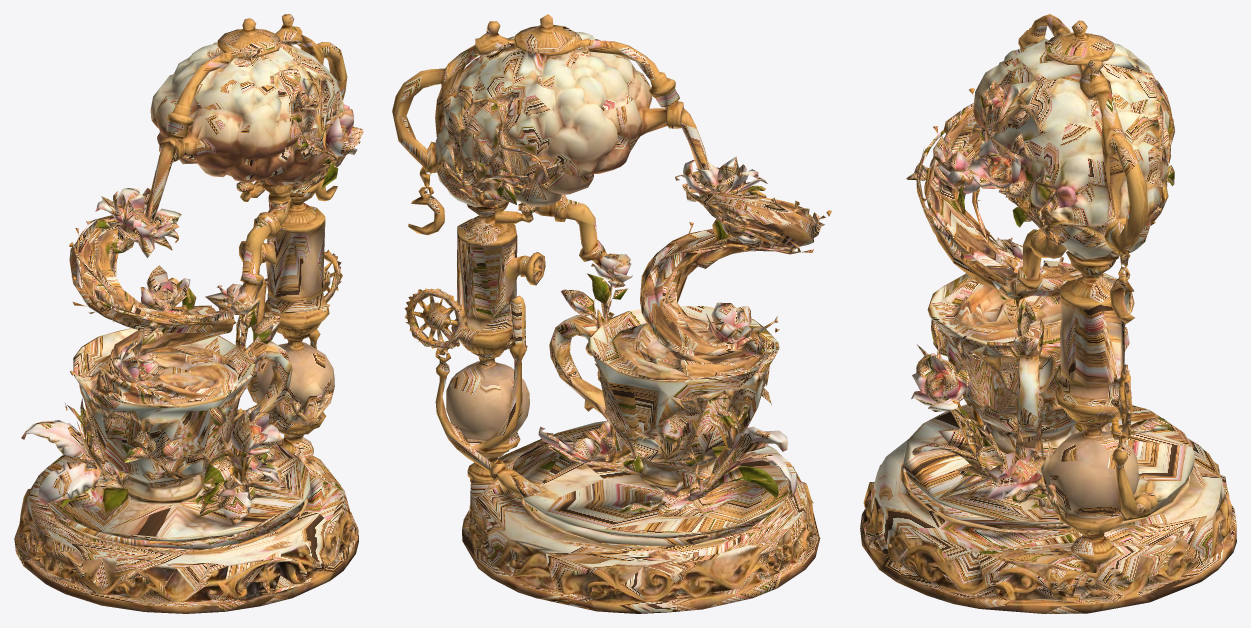
Rendered from Enchanted_Blossom_Tea.glb.
3 renders of one model, left to right at view 1: azimuth 30°, elevation 25°; view 2: azimuth 150°, elevation 25°; view 3: azimuth 270°, elevation 25°, orthographic. The views are drawn at different scales.
Visible parts, largest first — view 1: Enchanted_Blossom_Tea; view 2: Enchanted_Blossom_Tea; view 3: Enchanted_Blossom_Tea.
Part boxes in pixels (x1,y1,x2,y2): Enchanted_Blossom_Tea: [14, 14, 363, 613]; Enchanted_Blossom_Tea: [392, 14, 831, 613]; Enchanted_Blossom_Tea: [860, 14, 1236, 613].
Size of the model in its own units: 1.41 by 1.9 by 1.17.
Materials: 1 (1 with a texture image).
